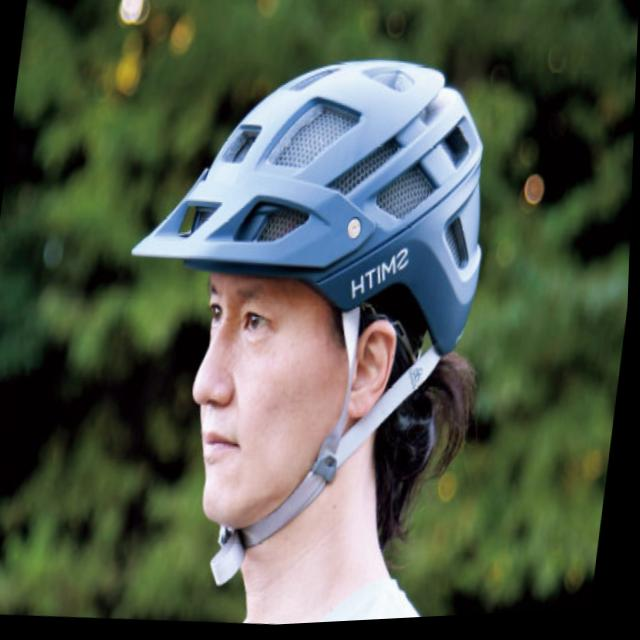illegal_helmet: (87, 28, 511, 622)
